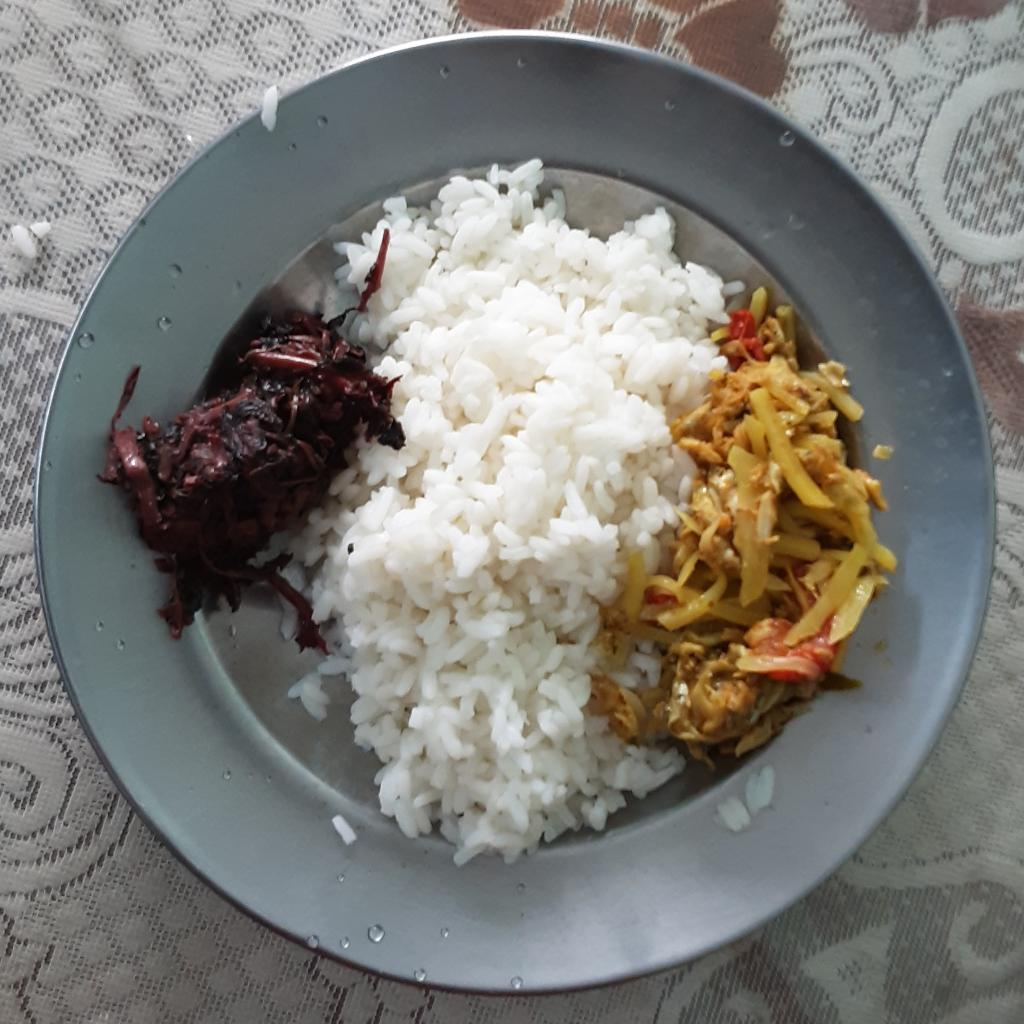lal-shak: (96, 232, 410, 650)
potato: (591, 285, 898, 761)
rice: (268, 158, 745, 869)
